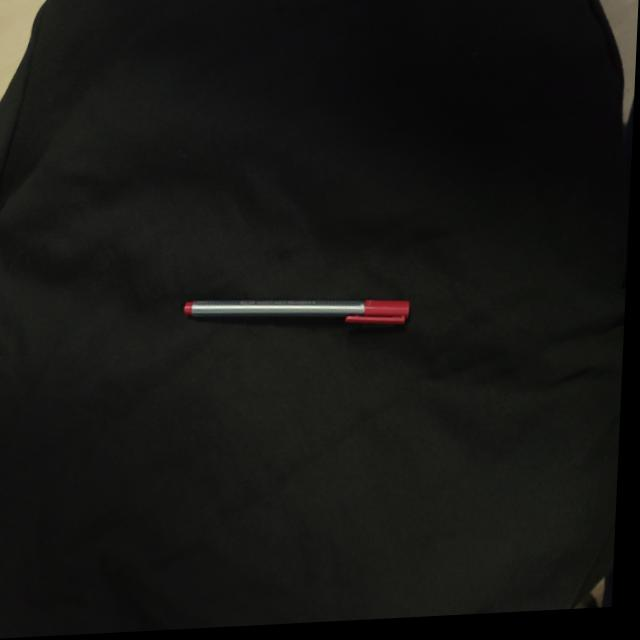caneta: (163, 256, 423, 367)
